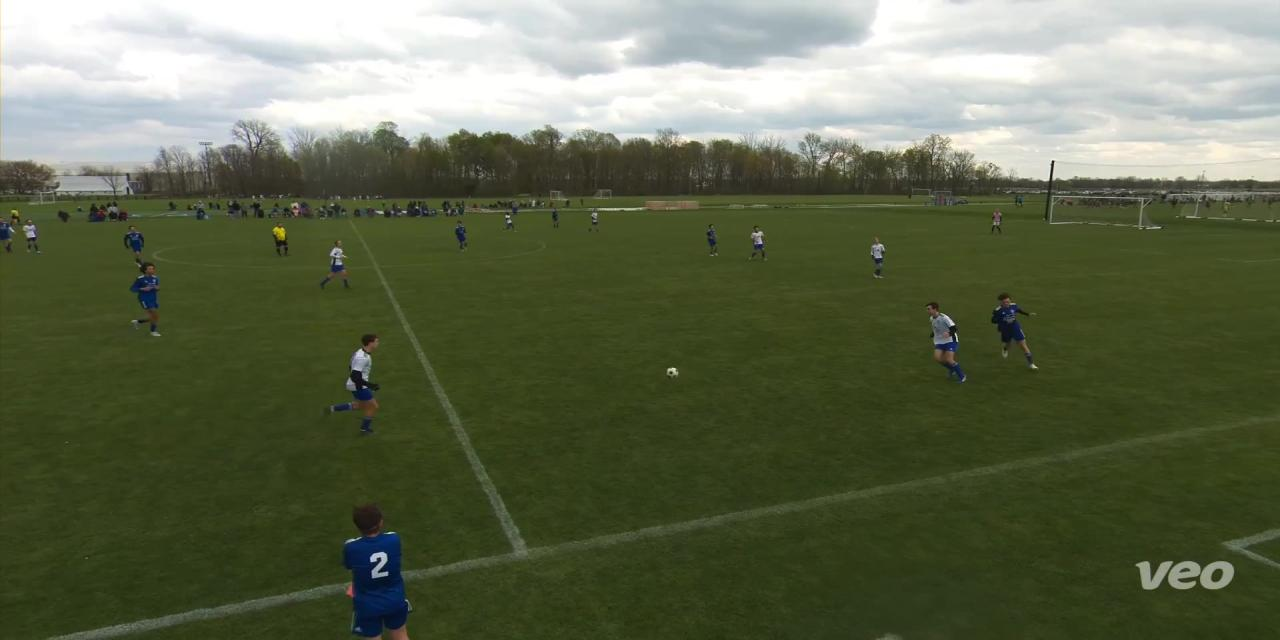goal: (1042, 186, 1174, 236)
sports ball: (658, 358, 686, 387)
